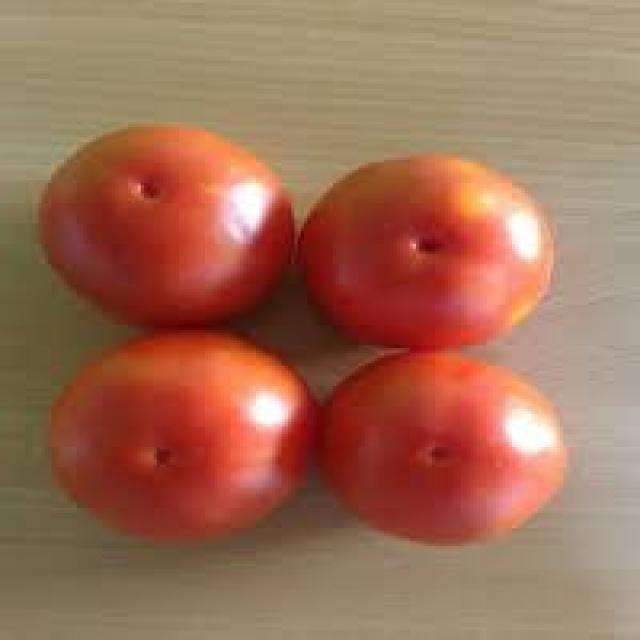Fresh_tomato: (14, 338, 301, 526), (42, 127, 289, 317), (334, 348, 562, 547), (329, 146, 543, 342)
